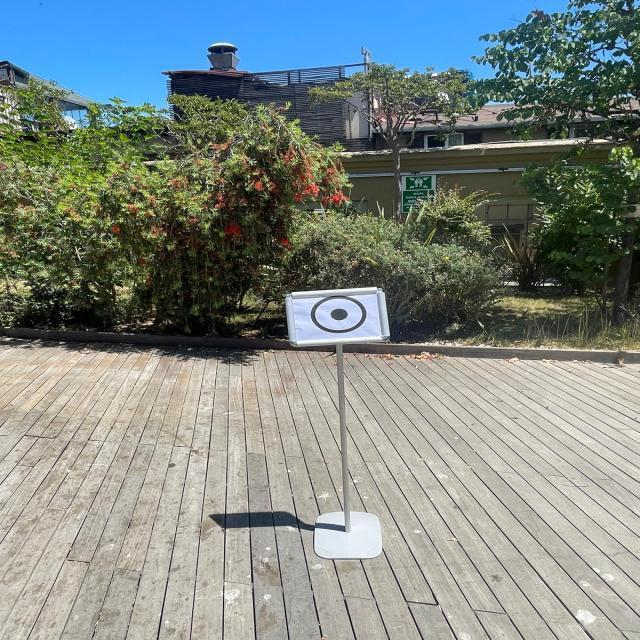Target: (277, 276, 403, 356)
inner: (327, 303, 352, 327)
